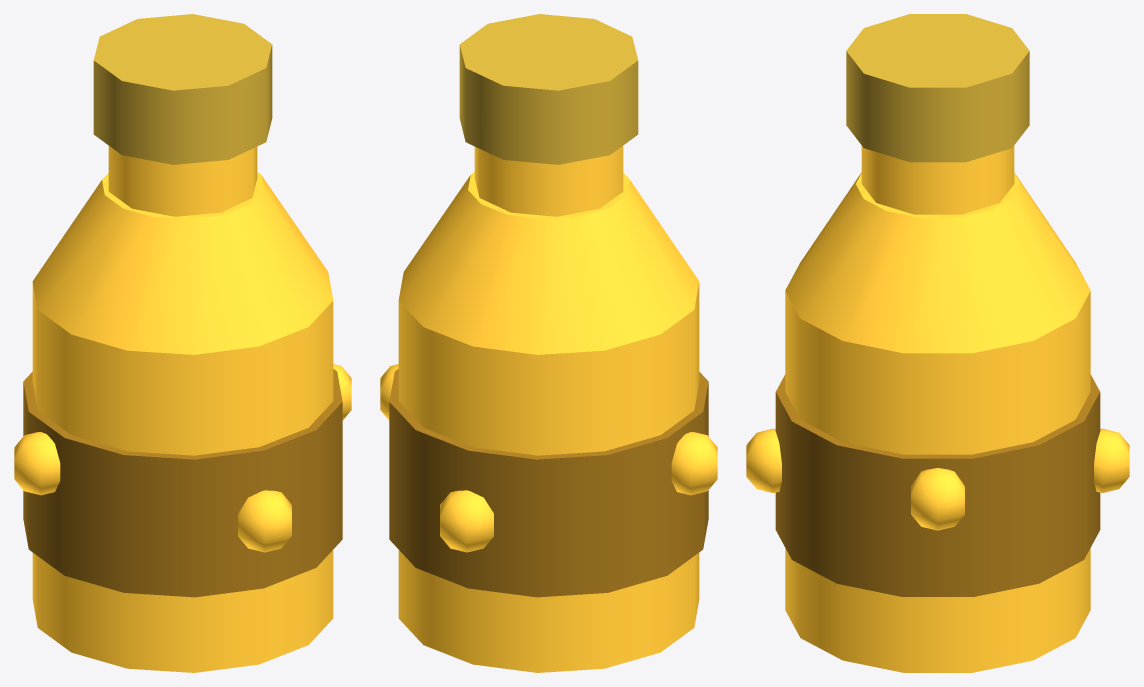
File: bottle_gold.glb
The picture shows the model from 3 angles, left to right: view 1: azimuth 30°, elevation 25°; view 2: azimuth 150°, elevation 25°; view 3: azimuth 270°, elevation 25°; orthographic projection.
Bounding box in the file's own units: 0.5832 × 0.9188 × 0.5707.
